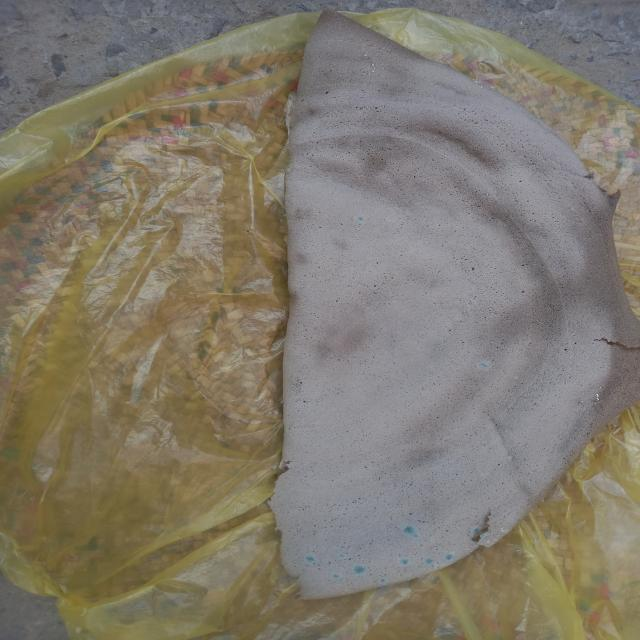injera_mold: (304, 553, 317, 565), (486, 536, 500, 545), (403, 525, 415, 534), (468, 526, 480, 535), (466, 544, 478, 553), (478, 361, 489, 370), (353, 566, 365, 574), (500, 526, 510, 534), (445, 553, 454, 560), (342, 588, 351, 595), (331, 574, 341, 579), (401, 558, 408, 565), (424, 559, 434, 563), (358, 216, 364, 222), (363, 51, 368, 57), (595, 392, 600, 398), (413, 534, 420, 538), (380, 579, 387, 583), (372, 67, 376, 73), (338, 554, 345, 557), (370, 62, 374, 66), (480, 534, 485, 537), (596, 398, 600, 401), (580, 400, 584, 402), (596, 401, 600, 403), (381, 63, 384, 65), (368, 73, 371, 75), (582, 392, 584, 395), (592, 388, 595, 390), (382, 68, 384, 70), (363, 73, 365, 75), (594, 402, 596, 404), (600, 386, 601, 388)
